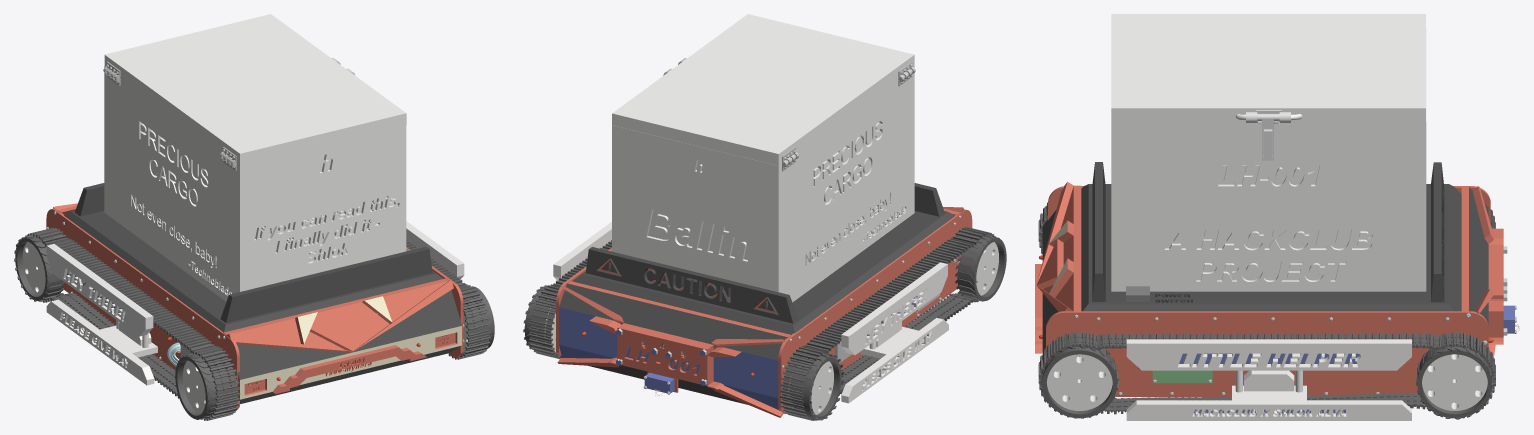
File: little-helper.glb
3 views of the same model, side by side, from view 1: azimuth 30°, elevation 25°; view 2: azimuth 150°, elevation 25°; view 3: azimuth 270°, elevation 25° (orthographic). The views are drawn at different scales.
Visible parts, largest first — view 1: Node4, Node25, Node14, Node20, Node16, Node29, Node15, Node5, Node6, Node23, Node13, Node9 (+6 smaller); view 2: Node4, Node25, Node20, Node23, Node26, Node14, Node16, Node10, Node8, Node15, Node9, Node18 (+4 smaller); view 3: Node4, Node14, Node25, Node20, Node5, Node23, Node16, Node12, Node26, Node3, Node8, Node22 (+5 smaller).
Part boxes in pixels (left/top/right/bottom): Node4: left=22, top=14, right=473, bottom=414; Node25: left=64, top=183, right=461, bottom=403; Node14: left=46, top=208, right=463, bottom=410; Node20: left=46, top=221, right=464, bottom=385; Node16: left=14, top=235, right=494, bottom=420; Node29: left=240, top=296, right=461, bottom=399; Node15: left=169, top=328, right=239, bottom=415; Node5: left=188, top=154, right=399, bottom=295; Node6: left=38, top=231, right=190, bottom=393; Node23: left=53, top=203, right=450, bottom=398; Node13: left=96, top=323, right=240, bottom=417; Node9: left=56, top=240, right=414, bottom=300; Node4: left=545, top=14, right=998, bottom=414; Node25: left=559, top=183, right=955, bottom=404; Node20: left=553, top=222, right=959, bottom=403; Node23: left=557, top=207, right=964, bottom=417; Node26: left=559, top=297, right=922, bottom=410; Node14: left=556, top=207, right=972, bottom=413; Node16: left=524, top=236, right=1006, bottom=420; Node10: left=780, top=288, right=898, bottom=420; Node8: left=528, top=281, right=562, bottom=358; Node15: left=930, top=227, right=995, bottom=313; Node9: left=810, top=286, right=901, bottom=348; Node18: left=555, top=62, right=961, bottom=394; Node4: left=1046, top=14, right=1487, bottom=410; Node14: left=1035, top=181, right=1490, bottom=396; Node25: left=1042, top=162, right=1488, bottom=351; Node20: left=1126, top=324, right=1516, bottom=420; Node5: left=1164, top=165, right=1372, bottom=281; Node23: left=1042, top=185, right=1503, bottom=358; Node16: left=1042, top=209, right=1493, bottom=418; Node12: left=1047, top=331, right=1489, bottom=413; Node26: left=1179, top=305, right=1514, bottom=413; Node3: left=1039, top=332, right=1165, bottom=418; Node8: left=1249, top=332, right=1495, bottom=418; Node22: left=1246, top=111, right=1290, bottom=160.
Bounding box in the file's own units: 65.75 × 51.47 × 80.61.
